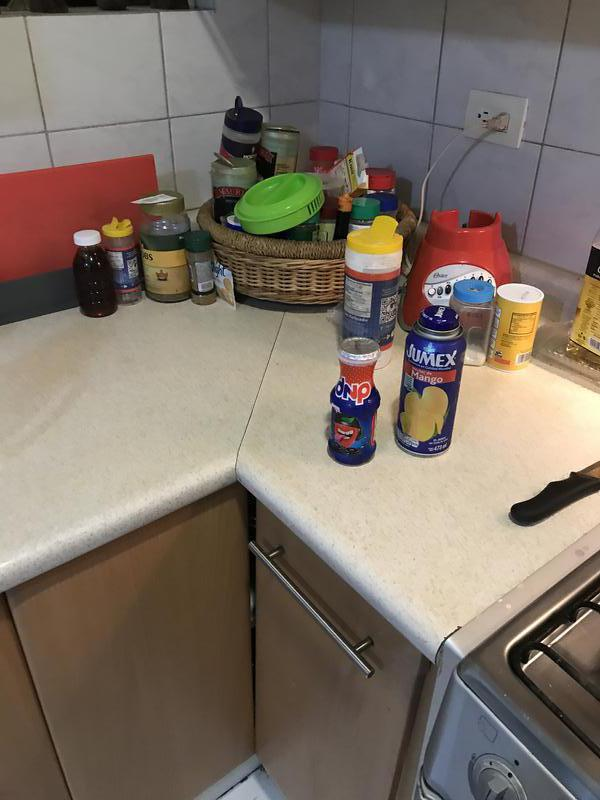danup: (329, 338, 380, 467)
jugo_jumex: (399, 305, 466, 457)
